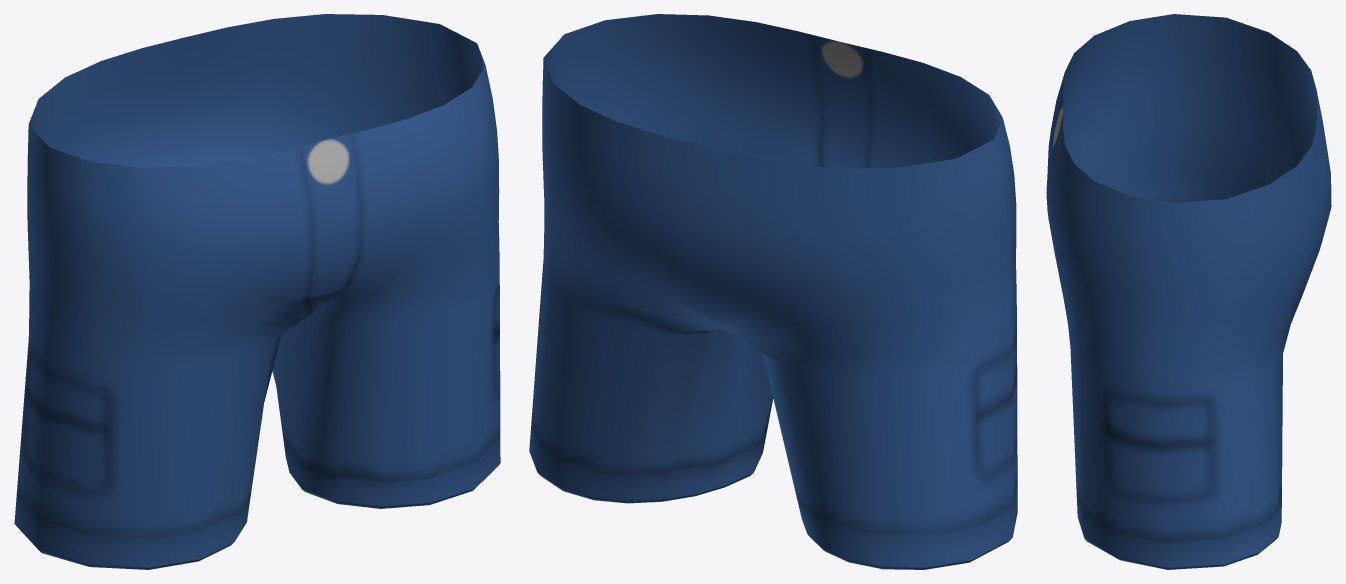
Rendered from lower cloth 07.glb.
3 views of the same model, side by side, from view 1: azimuth 30°, elevation 25°; view 2: azimuth 150°, elevation 25°; view 3: azimuth 270°, elevation 25° (orthographic). The views are drawn at different scales.
Visible parts, largest first — view 1: lower_cloth_07; view 2: lower_cloth_07; view 3: lower_cloth_07.
Boxes of the visible parts, box(x1,y1,x2,y2) form: lower_cloth_07: box(14, 14, 500, 569); lower_cloth_07: box(529, 14, 1017, 569); lower_cloth_07: box(1046, 14, 1331, 569).
Bounding box in the file's own units: 0.00516 × 0.00433 × 0.00308.
Materials: 1 (1 with a texture image).
